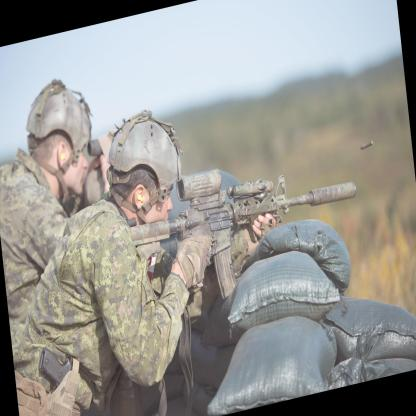rifle: (121, 138, 367, 313)
